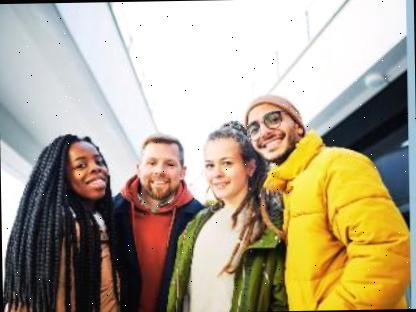person: (242, 85, 416, 311), (0, 122, 122, 312), (191, 114, 285, 312), (116, 123, 200, 312)
